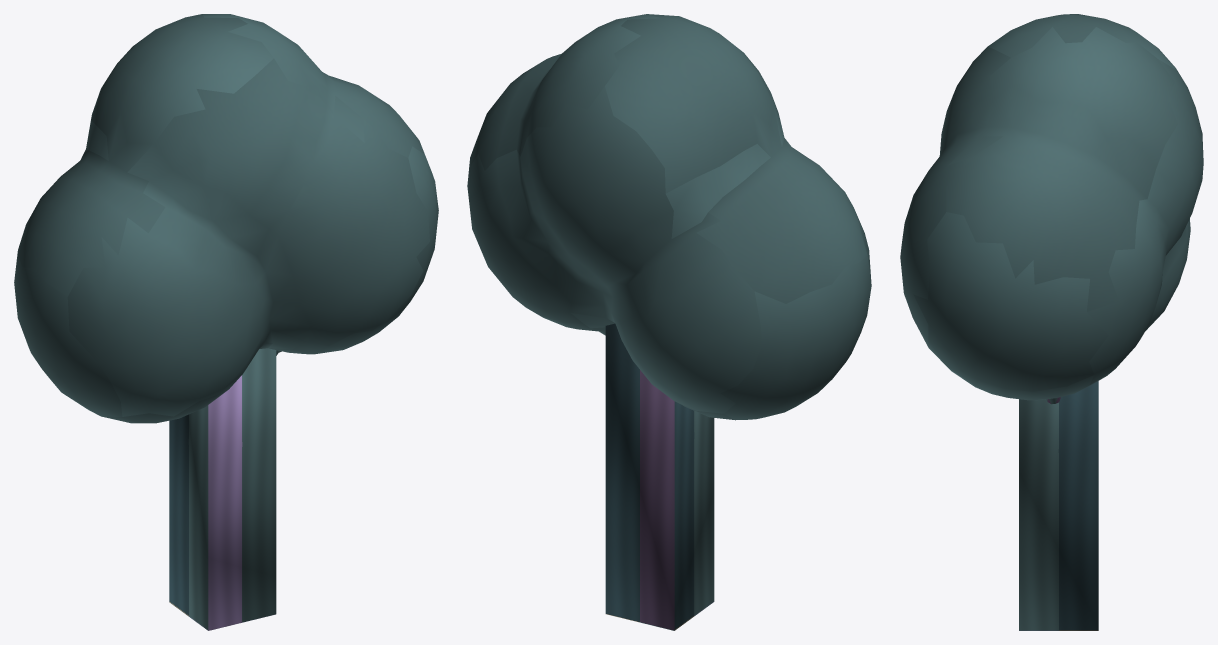
Rendered from tree_crooked_b.glb.
The picture shows the model from 3 angles, left to right: view 1: azimuth 30°, elevation 25°; view 2: azimuth 150°, elevation 25°; view 3: azimuth 270°, elevation 25°; orthographic projection.
Parts seen in each view (by area): view 1: lod0, col; view 2: lod0, col; view 3: lod0, col.
Boxes of the visible parts, bbox=[...] form: lod0: bbox=[14, 14, 438, 423]; col: bbox=[169, 348, 276, 630]; lod0: bbox=[467, 14, 871, 420]; col: bbox=[605, 323, 714, 630]; lod0: bbox=[900, 14, 1203, 404]; col: bbox=[1019, 381, 1098, 630].
Size of what is drawn, in the model's own units: 3.32 by 4.88 by 2.28.
2 materials, 2 textured.
